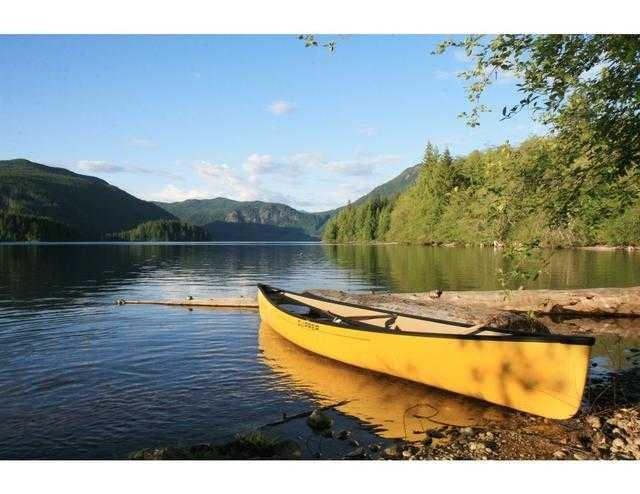kayak: (257, 285, 595, 422)
